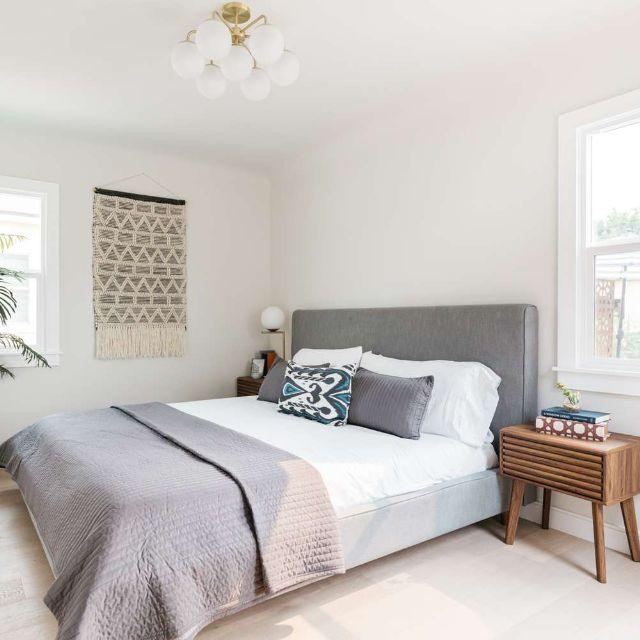bed: (0, 421, 507, 640)
pillow: (343, 363, 514, 438), (344, 375, 438, 432), (284, 357, 353, 426)
table: (503, 414, 640, 577)
window: (555, 113, 640, 394), (0, 190, 62, 357)
